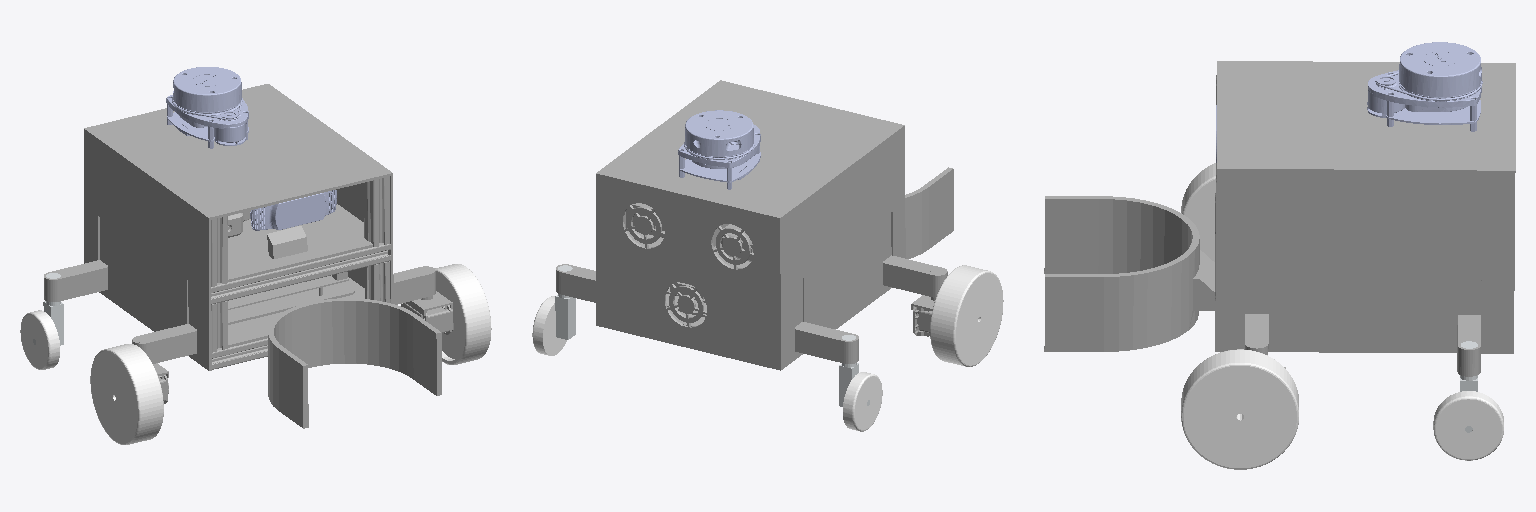
URDF robot description (2cam_small):
<?xml version="1.0" encoding="utf-8"?>
<!-- This URDF was automatically created by SolidWorks to URDF Exporter! Originally created by [author] ([email redacted]) 
     Commit Version: 1.5.1-0-g916b5db  Build Version: 1.5.7152.31018
     For more information, please see http://wiki.ros.org/sw_urdf_exporter -->
<robot
  name="2cam_small">
  <link
    name="Base">
    <inertial>
      <origin
        xyz="-0.0328657288246075 0.0307806338154147 0.307711224343171"
        rpy="0 0 0" />
      <mass
        value="5.32485368404392" />
      <inertia
        ixx="0.0219378727246539"
        ixy="-4.02880975316138E-06"
        ixz="-1.44872112391915E-06"
        iyy="0.0232024067860217"
        iyz="-7.18050757212558E-05"
        izz="0.0149053879753853" />
    </inertial>
    <visual>
      <origin
        xyz="0 0 0"
        rpy="0 0 0" />
      <geometry>
        <mesh
          filename="package://2cam_small/meshes/Base.STL" />
      </geometry>
      <material
        name="">
        <color
          rgba="0.752941176470588 0.752941176470588 0.752941176470588 1" />
      </material>
    </visual>
    <collision>
      <origin
        xyz="0 0 0"
        rpy="0 0 0" />
      <geometry>
        <mesh
          filename="package://2cam_small/meshes/Base.STL" />
      </geometry>
    </collision>
  </link>
  <link
    name="LFS">
    <inertial>
      <origin
        xyz="0.0666875210847072 -0.0393747184410589 0.0707155329911036"
        rpy="0 0 0" />
      <mass
        value="0.26437001106022" />
      <inertia
        ixx="3.20746276473044E-05"
        ixy="-1.44118283518155E-07"
        ixz="-6.30853084354202E-08"
        iyy="6.22704126338821E-05"
        iyz="-2.01894652761251E-07"
        izz="6.28519936953906E-05" />
    </inertial>
    <visual>
      <origin
        xyz="0 0 0"
        rpy="0 0 0" />
      <geometry>
        <mesh
          filename="package://2cam_small/meshes/LFS.STL" />
      </geometry>
      <material
        name="">
        <color
          rgba="0.752941176470588 0.752941176470588 0.752941176470588 1" />
      </material>
    </visual>
    <collision>
      <origin
        xyz="0 0 0"
        rpy="0 0 0" />
      <geometry>
        <mesh
          filename="package://2cam_small/meshes/LFS.STL" />
      </geometry>
    </collision>
  </link>
  <joint
    name="LFS"
    type="fixed">
    <origin
      xyz="0.173410124237744 -0.399149249633667 0.0449394104471217"
      rpy="2.84167547132556 0 3.14159265358979" />
    <parent
      link="Base" />
    <child
      link="LFS" />
    <axis
      xyz="0 0.999966324180135 -0.00771317092181556" />
    <limit
      lower="0"
      upper="0"
      effort="0"
      velocity="0" />
  </joint>
  <link
    name="LFW">
    <inertial>
      <origin
        xyz="-0.0123157245733973 -6.52281809522398E-05 -4.69232104357009E-05"
        rpy="0 0 0" />
      <mass
        value="0.193585420779862" />
      <inertia
        ixx="0.000253081141332254"
        ixy="-5.88092833198904E-37"
        ixz="5.1845054750851E-21"
        iyy="0.000136818598566517"
        iyz="7.17557753438369E-37"
        izz="0.000136818598566517" />
    </inertial>
    <visual>
      <origin
        xyz="0 0 0"
        rpy="0 0 0" />
      <geometry>
        <mesh
          filename="package://2cam_small/meshes/LFW.STL" />
      </geometry>
      <material
        name="">
        <color
          rgba="1 1 1 1" />
      </material>
    </visual>
    <collision>
      <origin
        xyz="0 0 0"
        rpy="0 0 0" />
      <geometry>
        <mesh
          filename="package://2cam_small/meshes/LFW.STL" />
      </geometry>
    </collision>
  </link>
  <joint
    name="LFW"
    type="continuous">
    <origin
      xyz="0.00041099 -0.061262 0.09569"
      rpy="-1.8707 0 3.1416" />
    <parent
      link="LFS" />
    <child
      link="LFW" />
    <axis
      xyz="1 0 0" />
    <limit
      effort="3.1"
      velocity="7" />
  </joint>
  <link
    name="RFS">
    <inertial>
      <origin
        xyz="0.0724473276385272 -0.0443548414978189 0.0650669279716199"
        rpy="0 0 0" />
      <mass
        value="0.264370011060221" />
      <inertia
        ixx="3.20746276473045E-05"
        ixy="1.44118283518171E-07"
        ixz="6.30853084354422E-08"
        iyy="6.22704126338823E-05"
        iyz="-2.01894652761258E-07"
        izz="6.28519936953908E-05" />
    </inertial>
    <visual>
      <origin
        xyz="0 0 0"
        rpy="0 0 0" />
      <geometry>
        <mesh
          filename="package://2cam_small/meshes/RFS.STL" />
      </geometry>
      <material
        name="">
        <color
          rgba="0.752941176470588 0.752941176470588 0.752941176470588 1" />
      </material>
    </visual>
    <collision>
      <origin
        xyz="0 0 0"
        rpy="0 0 0" />
      <geometry>
        <mesh
          filename="package://2cam_small/meshes/RFS.STL" />
      </geometry>
    </collision>
  </link>
  <joint
    name="RFS"
    type="fixed">
    <origin
      xyz="-0.24667 -0.43786 0.041354"
      rpy="2.8262 0 0" />
    <parent
      link="Base" />
    <child
      link="RFS" />
    <axis
      xyz="0 0 0" />
    <limit
      lower="0"
      upper="0"
      effort="0"
      velocity="0" />
  </joint>
  <link
    name="RFW">
    <inertial>
      <origin
        xyz="-0.0123157245747488 1.84602485989727E-05 7.82030849109105E-05"
        rpy="0 0 0" />
      <mass
        value="0.193585420779862" />
      <inertia
        ixx="0.000253081141332254"
        ixy="-1.23497249055924E-21"
        ixz="2.07163812308337E-21"
        iyy="0.000136818598566517"
        iyz="-3.3881317890172E-21"
        izz="0.000136818598566517" />
    </inertial>
    <visual>
      <origin
        xyz="0 0 0"
        rpy="0 0 0" />
      <geometry>
        <mesh
          filename="package://2cam_small/meshes/RFW.STL" />
      </geometry>
      <material
        name="">
        <color
          rgba="1 1 1 1" />
      </material>
    </visual>
    <collision>
      <origin
        xyz="0 0 0"
        rpy="0 0 0" />
      <geometry>
        <mesh
          filename="package://2cam_small/meshes/RFW.STL" />
      </geometry>
    </collision>
  </link>
  <joint
    name="RFW"
    type="continuous">
    <origin
      xyz="0.0061708 -0.040893 0.098085"
      rpy="-0.70714 0 3.1416" />
    <parent
      link="RFS" />
    <child
      link="RFW" />
    <axis
      xyz="1 0 0" />
    <limit
      effort="3.1"
      velocity="7" />
  </joint>
  <link
    name="LBS">
    <inertial>
      <origin
        xyz="0.0754022136870551 -0.0369799716242675 0.0643347690268632"
        rpy="0 0 0" />
      <mass
        value="0.197009126147877" />
      <inertia
        ixx="1.68802738687173E-05"
        ixy="-1.14118964784893E-21"
        ixz="2.10921100717931E-20"
        iyy="5.0218488566757E-05"
        iyz="1.0508875929185E-06"
        izz="4.72447473350487E-05" />
    </inertial>
    <visual>
      <origin
        xyz="0 0 0"
        rpy="0 0 0" />
      <geometry>
        <mesh
          filename="package://2cam_small/meshes/LBS.STL" />
      </geometry>
      <material
        name="">
        <color
          rgba="0.752941176470588 0.752941176470588 0.752941176470588 1" />
      </material>
    </visual>
    <collision>
      <origin
        xyz="0 0 0"
        rpy="0 0 0" />
      <geometry>
        <mesh
          filename="package://2cam_small/meshes/LBS.STL" />
      </geometry>
    </collision>
  </link>
  <joint
    name="LBS"
    type="fixed">
    <origin
      xyz="0.17341 -0.21915 0.043551"
      rpy="2.8417 0 3.1416" />
    <parent
      link="Base" />
    <child
      link="LBS" />
    <axis
      xyz="0 0 0" />
    <limit
      lower="0"
      upper="0"
      effort="0"
      velocity="0" />
  </joint>
  <link
    name="LBC">
    <inertial>
      <origin
        xyz="0.000464744852031629 -0.0408916785207848 -4.74244192952833E-05"
        rpy="0 0 0" />
      <mass
        value="0.043396245960262" />
      <inertia
        ixx="2.1180042472488E-05"
        ixy="5.53822046363835E-07"
        ixz="1.45583787809333E-22"
        iyy="1.76453344713605E-06"
        iyz="-2.20112761000361E-20"
        izz="2.14947085785555E-05" />
    </inertial>
    <visual>
      <origin
        xyz="0 0 0"
        rpy="0 0 0" />
      <geometry>
        <mesh
          filename="package://2cam_small/meshes/LBC.STL" />
      </geometry>
      <material
        name="">
        <color
          rgba="0.898039215686275 0.917647058823529 0.929411764705882 1" />
      </material>
    </visual>
    <collision>
      <origin
        xyz="0 0 0"
        rpy="0 0 0" />
      <geometry>
        <mesh
          filename="package://2cam_small/meshes/LBC.STL" />
      </geometry>
    </collision>
  </link>
  <joint
    name="LBC"
    type="continuous">
    <origin
      xyz="0.0411609911350768 -0.0332218793684783 0.0523497067876337"
      rpy="-1.87842355251803 -0.00139263512405294 3.13720937469085" />
    <parent
      link="LBS" />
    <child
      link="LBC" />
    <axis
      xyz="0 1 0" />
  </joint>
  <link
    name="LBW">
    <inertial>
      <origin
        xyz="0.00647290503233725 7.24158928296983E-05 3.48194508708044E-05"
        rpy="0 0 0" />
      <mass
        value="0.0368891747697499" />
      <inertia
        ixx="1.67269024516251E-05"
        ixy="1.7292210705421E-21"
        ixz="-4.76786905075565E-21"
        iyy="8.8792623904253E-06"
        iyz="2.11758236813575E-22"
        izz="8.8792623904253E-06" />
    </inertial>
    <visual>
      <origin
        xyz="0 0 0"
        rpy="0 0 0" />
      <geometry>
        <mesh
          filename="package://2cam_small/meshes/LBW.STL" />
      </geometry>
      <material
        name="">
        <color
          rgba="1 1 1 1" />
      </material>
    </visual>
    <collision>
      <origin
        xyz="0 0 0"
        rpy="0 0 0" />
      <geometry>
        <mesh
          filename="package://2cam_small/meshes/LBW.STL" />
      </geometry>
    </collision>
  </link>
  <joint
    name="LBW"
    type="continuous">
    <origin
      xyz="0.0095006 -0.0683 0"
      rpy="-2.9585 0 0" />
    <parent
      link="LBC" />
    <child
      link="LBW" />
    <axis
      xyz="1 0 0" />
    <limit
      effort="3.1"
      velocity="7" />
  </joint>
  <link
    name="RBS">
    <inertial>
      <origin
        xyz="0.0754022136884065 -0.0370703686263281 0.0643060483984043"
        rpy="0 0 0" />
      <mass
        value="0.197009126147877" />
      <inertia
        ixx="1.68802738687173E-05"
        ixy="-2.46098846739223E-21"
        ixz="6.53316130658802E-22"
        iyy="5.0218488566757E-05"
        iyz="1.05088759291849E-06"
        izz="4.72447473350487E-05" />
    </inertial>
    <visual>
      <origin
        xyz="0 0 0"
        rpy="0 0 0" />
      <geometry>
        <mesh
          filename="package://2cam_small/meshes/RBS.STL" />
      </geometry>
      <material
        name="">
        <color
          rgba="0.752941176470588 0.752941176470588 0.752941176470588 1" />
      </material>
    </visual>
    <collision>
      <origin
        xyz="0 0 0"
        rpy="0 0 0" />
      <geometry>
        <mesh
          filename="package://2cam_small/meshes/RBS.STL" />
      </geometry>
    </collision>
  </link>
  <joint
    name="RBS"
    type="fixed">
    <origin
      xyz="-0.24091 -0.25078 0.043795"
      rpy="2.8262 0 0" />
    <parent
      link="Base" />
    <child
      link="RBS" />
    <axis
      xyz="0 0 0" />
    <limit
      lower="0"
      upper="0"
      effort="0"
      velocity="0" />
  </joint>
  <link
    name="RBC">
    <inertial>
      <origin
        xyz="0.000464526735199394 -0.0408916785207848 4.74249208766708E-05"
        rpy="0 0 0" />
      <mass
        value="0.0433962459602619" />
      <inertia
        ixx="2.11800424724879E-05"
        ixy="5.53822046363848E-07"
        ixz="-3.52409536688239E-22"
        iyy="1.76453344713605E-06"
        iyz="2.07911846965204E-20"
        izz="2.14947085785555E-05" />
    </inertial>
    <visual>
      <origin
        xyz="0 0 0"
        rpy="0 0 0" />
      <geometry>
        <mesh
          filename="package://2cam_small/meshes/RBC.STL" />
      </geometry>
      <material
        name="">
        <color
          rgba="0.898039215686275 0.917647058823529 0.929411764705882 1" />
      </material>
    </visual>
    <collision>
      <origin
        xyz="0 0 0"
        rpy="0 0 0" />
      <geometry>
        <mesh
          filename="package://2cam_small/meshes/RBC.STL" />
      </geometry>
    </collision>
  </link>
  <joint
    name="RBC"
    type="continuous">
    <origin
      xyz="0.041161 -0.033222 0.05235"
      rpy="-1.8784 0 3.1416" />
    <parent
      link="RBS" />
    <child
      link="RBC" />
    <axis
      xyz="0 1 0" />
  </joint>
  <link
    name="RBW">
    <inertial>
      <origin
        xyz="0.0064733 3.5487E-06 8.0274E-05"
        rpy="0 0 0" />
      <mass
        value="0.036889" />
      <inertia
        ixx="1.6727E-05"
        ixy="-2.2268E-21"
        ixz="-4.5789E-22"
        iyy="8.8793E-06"
        iyz="0"
        izz="8.8793E-06" />
    </inertial>
    <visual>
      <origin
        xyz="0 0 0"
        rpy="0 0 0" />
      <geometry>
        <mesh
          filename="package://2cam_small/meshes/RBW.STL" />
      </geometry>
      <material
        name="">
        <color
          rgba="1 1 1 1" />
      </material>
    </visual>
    <collision>
      <origin
        xyz="0 0 0"
        rpy="0 0 0" />
      <geometry>
        <mesh
          filename="package://2cam_small/meshes/RBW.STL" />
      </geometry>
    </collision>
  </link>
  <joint
    name="RBW"
    type="continuous">
    <origin
      xyz="0.0095 -0.0683 0"
      rpy="0.98365 0 0" />
    <parent
      link="RBC" />
    <child
      link="RBW" />
    <axis
      xyz="1 0 0" />
    <limit
      effort="3.1"
      velocity="7" />
  </joint>
  <link
    name="Lidar">
    <inertial>
      <origin
        xyz="-0.07854 0.74436 0.13345"
        rpy="0 0 0" />
      <mass
        value="0.073085" />
      <inertia
        ixx="1.9581E-05"
        ixy="-4.2839E-07"
        ixz="1.0393E-07"
        iyy="4.1418E-05"
        iyz="-9.4274E-09"
        izz="2.4125E-05" />
    </inertial>
    <visual>
      <origin
        xyz="0 0 0"
        rpy="0 0 0" />
      <geometry>
        <mesh
          filename="package://2cam_small/meshes/Lidar.STL" />
      </geometry>
      <material
        name="">
        <color
          rgba="0.79216 0.81961 0.93333 1" />
      </material>
    </visual>
    <collision>
      <origin
        xyz="0 0 0"
        rpy="0 0 0" />
      <geometry>
        <mesh
          filename="package://2cam_small/meshes/Lidar.STL" />
      </geometry>
    </collision>
  </link>
  <joint
    name="Lidar"
    type="fixed">
    <origin
      xyz="0.099167 -0.35637 -0.59905"
      rpy="1.5708 -0.0077131 -1.5708" />
    <parent
      link="Base" />
    <child
      link="Lidar" />
    <axis
      xyz="0 0 0" />
  </joint>
  <link
    name="Front_Cam">
    <inertial>
      <origin
        xyz="0.0498359970778254 0.0617187715936398 0.0686752343130632"
        rpy="0 0 0" />
      <mass
        value="0.0436119948521297" />
      <inertia
        ixx="4.2947913749771E-06"
        ixy="-8.85886294505066E-10"
        ixz="-1.01812872210141E-09"
        iyy="2.21058139310684E-05"
        iyz="2.17578140553957E-08"
        izz="2.35707056576044E-05" />
    </inertial>
    <visual>
      <origin
        xyz="0 0 0"
        rpy="0 0 0" />
      <geometry>
        <mesh
          filename="package://2cam_small/meshes/Front_Cam.STL" />
      </geometry>
      <material
        name="">
        <color
          rgba="0.792156862745098 0.819607843137255 0.933333333333333 1" />
      </material>
    </visual>
    <collision>
      <origin
        xyz="0 0 0"
        rpy="0 0 0" />
      <geometry>
        <mesh
          filename="package://2cam_small/meshes/Front_Cam.STL" />
      </geometry>
    </collision>
  </link>
  <joint
    name="Front_Cam"
    type="fixed">
    <origin
      xyz="-0.08359 -0.3697 0.042272"
      rpy="1.5631 0 0" />
    <parent
      link="Base" />
    <child
      link="Front_Cam" />
    <axis
      xyz="0 0 0" />
  </joint>
  <link
    name="Ball_cam">
    <inertial>
      <origin
        xyz="0 0 0"
        rpy="0 0 0" />
      <mass
        value="0" />
      <inertia
        ixx="0"
        ixy="0"
        ixz="0"
        iyy="0"
        iyz="0"
        izz="0" />
    </inertial>
    <visual>
      <origin
        xyz="0 0 0"
        rpy="0 0 0" />
      <geometry>
        <mesh
          filename="package://2cam_small/meshes/Ball_cam.STL" />
      </geometry>
      <material
        name="">
        <color
          rgba="1 1 1 1" />
      </material>
    </visual>
    <collision>
      <origin
        xyz="0 0 0"
        rpy="0 0 0" />
      <geometry>
        <mesh
          filename="package://2cam_small/meshes/Ball_cam.STL" />
      </geometry>
    </collision>
  </link>
  <joint
    name="Ball_cam"
    type="fixed">
    <origin
      xyz="-0.083757 -0.34814 0.055376"
      rpy="2.1944 0 0" />
    <parent
      link="Base" />
    <child
      link="Ball_cam" />
    <axis
      xyz="0 0 0" />
  </joint>
</robot>

--- Render facts (derived) ---
3 views of the same robot in one strip: view 1: azimuth 30°, elevation 25°; view 2: azimuth 150°, elevation 25°; view 3: azimuth 270°, elevation 25° (orthographic).
Robot: 2cam_small — 14 links, 13 joints (6 continuous, 7 fixed); root link Base; default pose: all joints at 0.
Visible links, largest first — view 1: Base, RFW, Lidar, LFW, LFS, Front_Cam, RFS, RBS, RBW, RBC; view 2: Base, RFW, Lidar, RFS, RBS, RBW, LBW, LBS, LBC, RBC; view 3: Base, LFW, Lidar, LBW, RFW, LBS, LFS.
Link boxes in pixels (x1,y1,x2,y2): Base: [84, 84, 441, 428]; RFW: [90, 344, 163, 444]; Lidar: [166, 67, 248, 148]; LFW: [435, 264, 491, 364]; LFS: [393, 266, 453, 334]; Front_Cam: [250, 190, 336, 230]; RFS: [132, 324, 196, 403]; RBS: [44, 260, 107, 301]; RBW: [20, 310, 59, 369]; RBC: [33, 273, 63, 345]; Base: [596, 80, 953, 370]; RFW: [930, 265, 1003, 366]; Lidar: [678, 110, 760, 189]; RFS: [883, 255, 947, 336]; RBS: [795, 322, 858, 363]; RBW: [843, 372, 882, 431]; LBW: [532, 296, 566, 355]; LBS: [556, 264, 595, 302]; LBC: [555, 265, 575, 339]; RBC: [839, 335, 869, 406]; Base: [1044, 61, 1515, 353]; LFW: [1181, 349, 1298, 469]; Lidar: [1367, 42, 1482, 131]; LBW: [1433, 391, 1503, 460]; RFW: [1181, 163, 1215, 261]; LBS: [1457, 315, 1480, 376]; LFS: [1245, 314, 1285, 368].
Size in the robot's own frame: 0.4135 by 0.3987 by 0.2883 metres.
13 mesh visuals loaded from 14 distinct referenced files (13 binary STL); not drawn: 1 (reference not matched to a file when rendering).